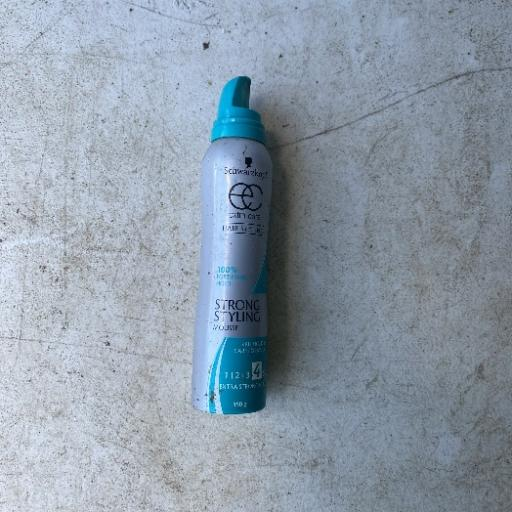Metal: (188, 74, 274, 416)
